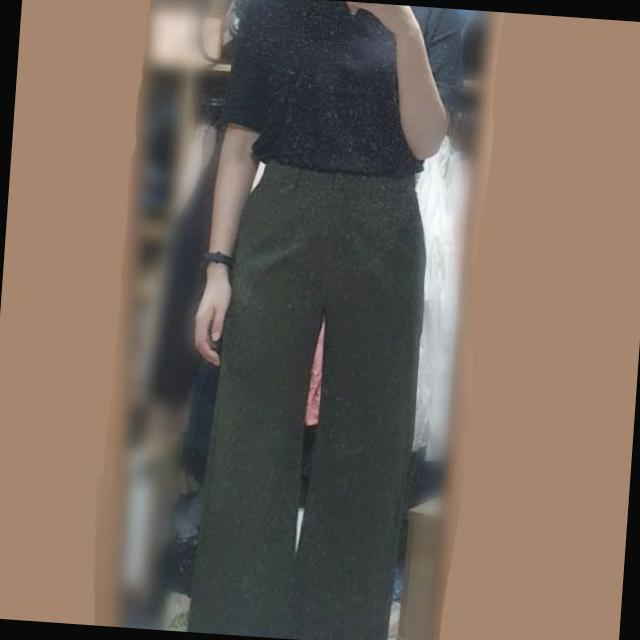shortsleeve: (219, 0, 474, 187)
slacks: (187, 158, 430, 640)
